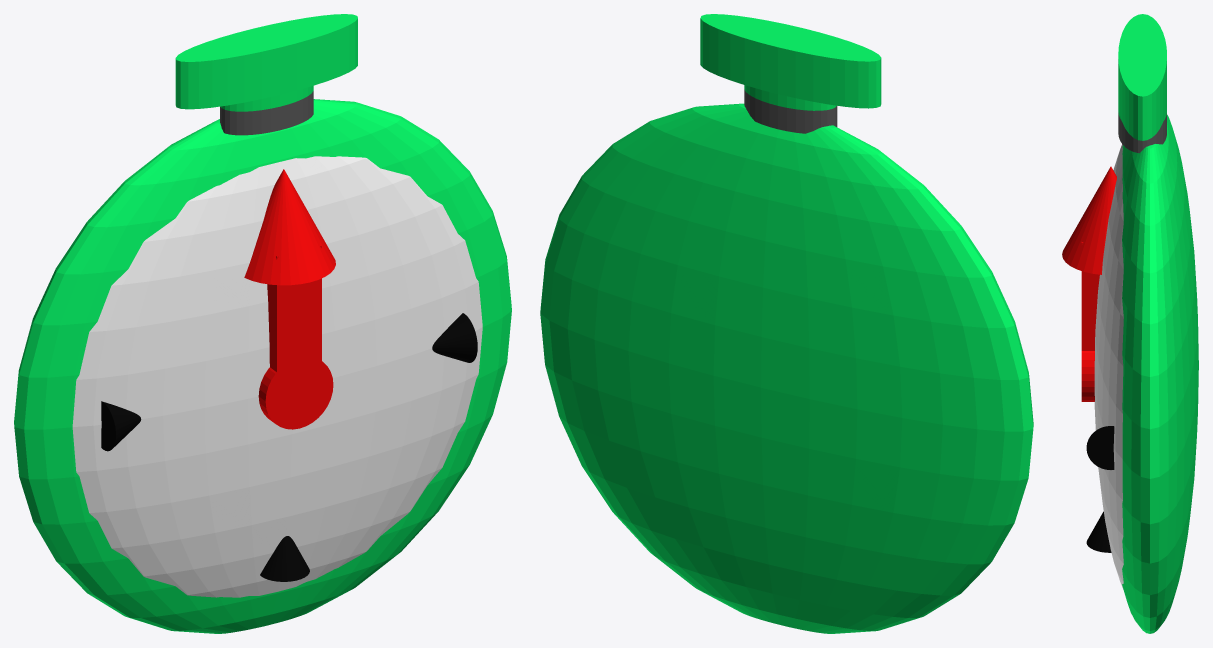
The model's file is Watch.fbx.
3 renders of one model, left to right at view 1: azimuth 30°, elevation 25°; view 2: azimuth 150°, elevation 25°; view 3: azimuth 270°, elevation 25°, orthographic. The views are drawn at different scales.
Parts seen in each view (by area): view 1: Watch; view 2: Watch; view 3: Watch.
Boxes of the visible parts, x1,y1,x2,y2 form: Watch: (14, 14, 511, 633); Watch: (540, 14, 1033, 633); Watch: (1062, 14, 1198, 633).
Size of the model in its own units: 2.2 by 2.5 by 0.56.
